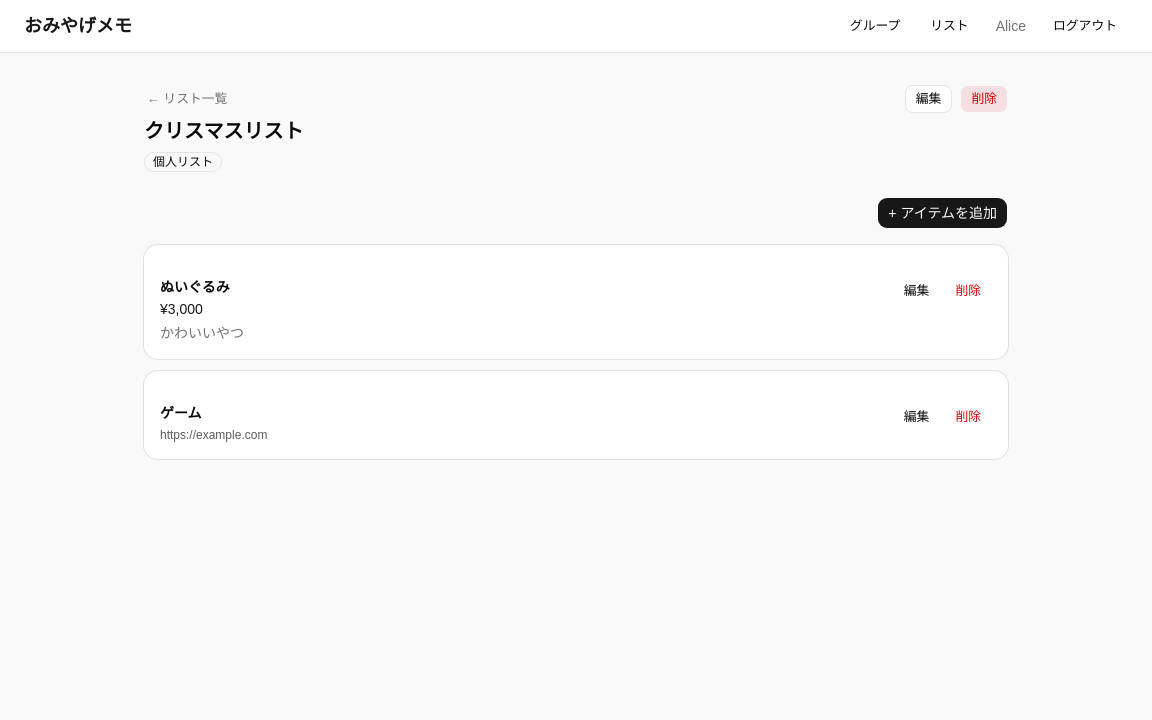
Scenario: GiftListDetailPage › アイテムの編集ボタンを押すと編集モーダルが開く
The width and height of the screenshot is (1152, 720).
expect the text "ぬいぐるみ" is shown: met, box [160,279,230,295]
Click the button with aria-label "ぬいぐるみを編集".
click(917, 291)  # box [893,277,940,305]
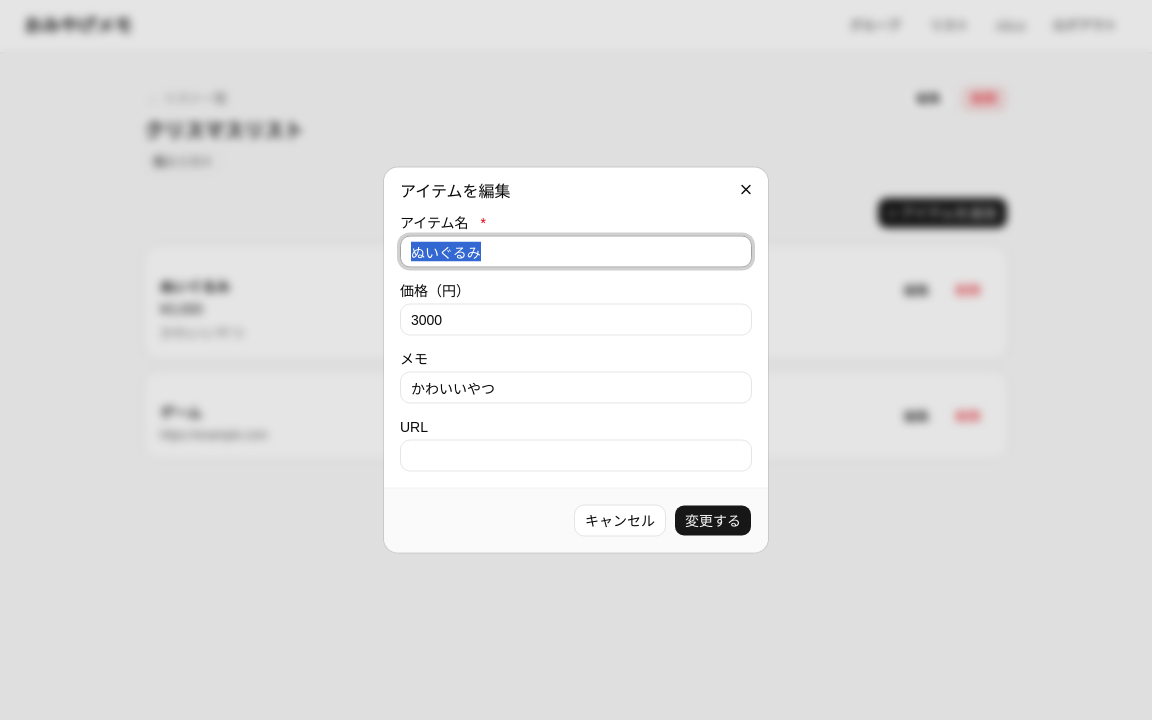
expect the heading "アイテムを編集" is shown: met, box [400,182,510,200]
expect the field showing "ぬいぐるみ" is shown: met, box [400,236,752,268]
expect the number field showing "3000" is shown: met, box [400,304,752,336]
